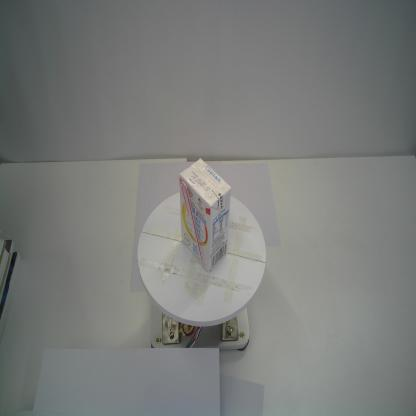Milk: (178, 157, 232, 274)
